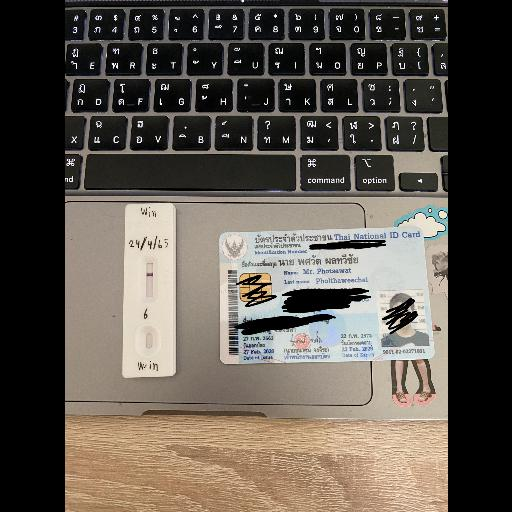Neg: (124, 202, 174, 378)
